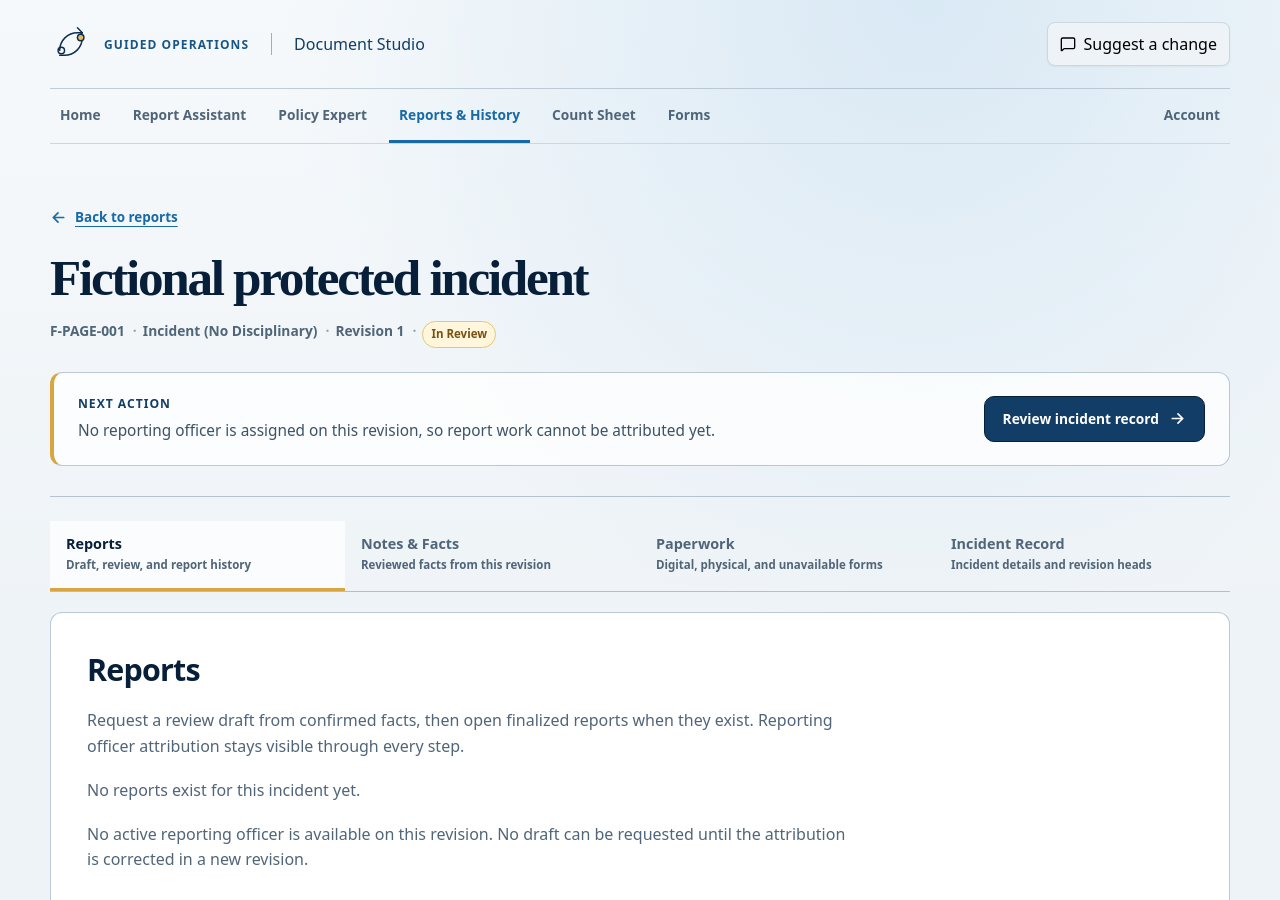
it: IncidentReportWorkspacePage › renders the guided four-section workspace from incident-scoped reads
The image size is (1280, 900).
Check: the heading "Fictional protected incident" is shown, box x1=50 y1=249 x2=587 y2=306
Check: the list item "F-PAGE-001" is shown, box x1=50 y1=321 x2=125 y2=348
Click the tab "Notes & Facts Reviewed facts from this revision".
click(492, 556)  # box x1=345 y1=521 x2=640 y2=591
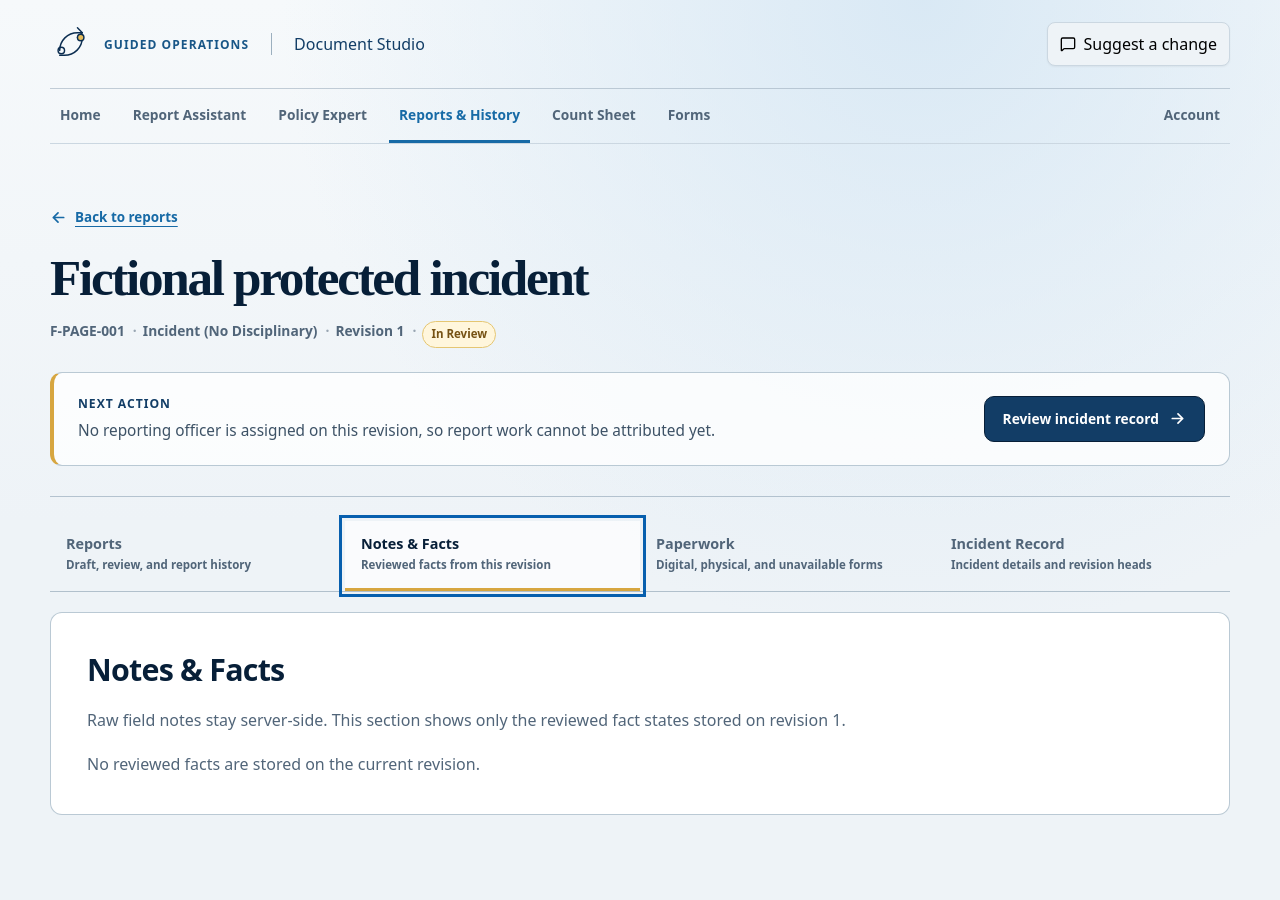
Check: the text "No reviewed facts are stored on the current revision." is shown, box x1=87 y1=753 x2=480 y2=775
